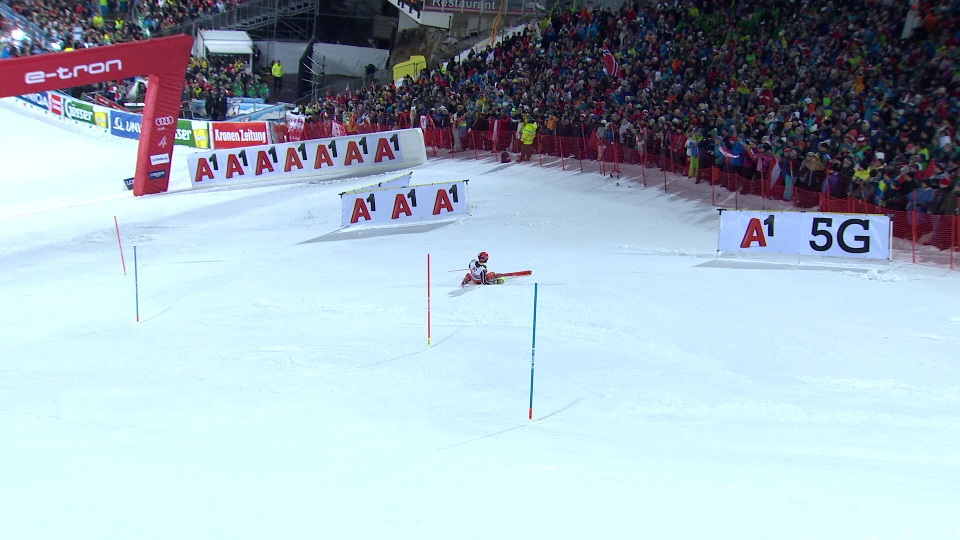5g: (805, 211, 880, 260)
a1: (739, 214, 778, 251), (390, 187, 421, 224), (347, 194, 380, 228), (431, 185, 464, 218), (372, 132, 403, 166), (191, 155, 223, 186), (342, 137, 372, 169), (283, 143, 310, 174), (313, 142, 340, 172), (224, 152, 251, 178), (256, 147, 281, 175)
audi: (154, 115, 176, 130)
etron: (17, 58, 133, 86)
goesser: (66, 102, 104, 130), (172, 122, 200, 144)
kronenzeitung: (213, 125, 267, 149)
uniqa: (112, 114, 145, 139)
